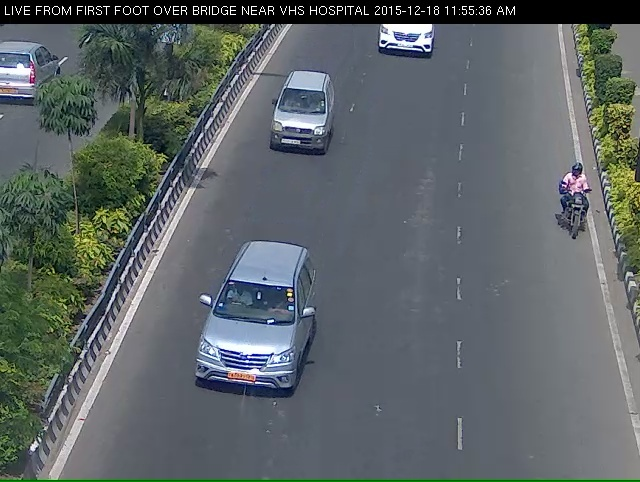Car: (169, 280, 305, 446), (253, 74, 344, 189), (358, 17, 458, 81)
Person: (548, 170, 607, 268)
